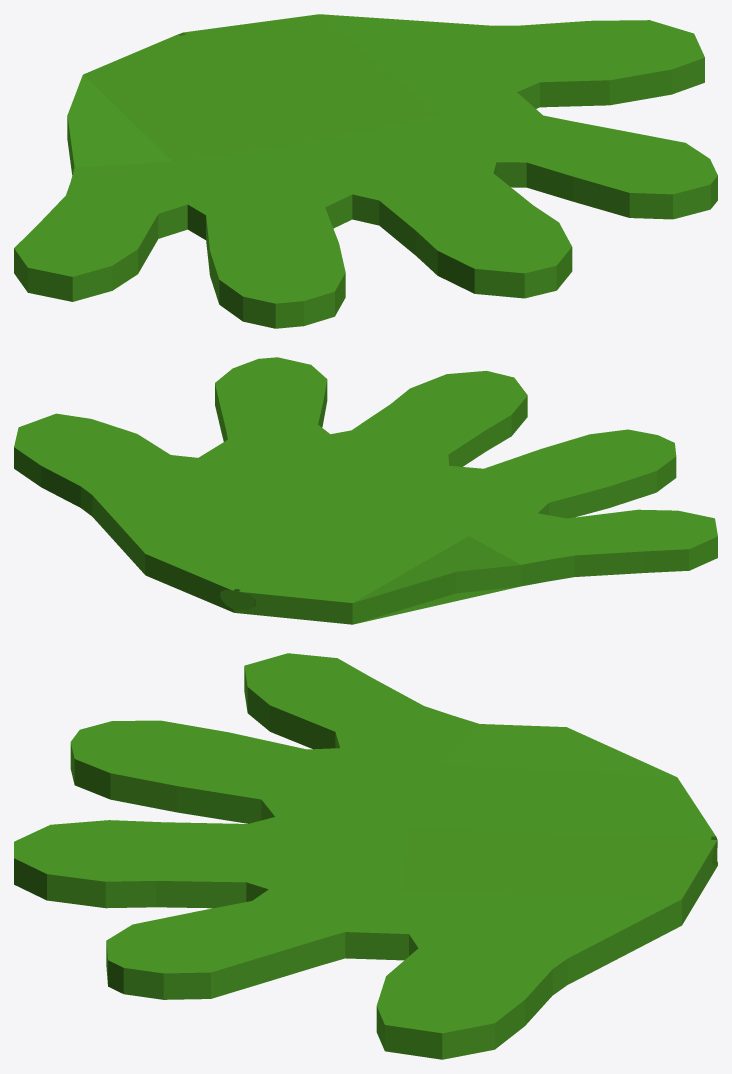
File: stickyhand_alone.glb
3 renders of one model, top to bottom at view 1: azimuth 30°, elevation 25°; view 2: azimuth 150°, elevation 25°; view 3: azimuth 270°, elevation 25°, orthographic. The views are drawn at different scales.
Parts seen in each view (by area): view 1: Cube; view 2: Cube; view 3: Cube.
Part boxes in pixels (x1,y1,x2,y2): Cube: [14, 14, 717, 328]; Cube: [14, 357, 717, 624]; Cube: [14, 653, 717, 1059].
Size of the model in its own units: 0.9287 by 0.0487 by 0.7268.
